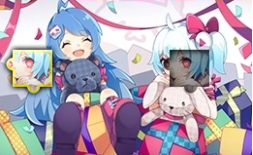gap: (164, 50, 209, 87)
